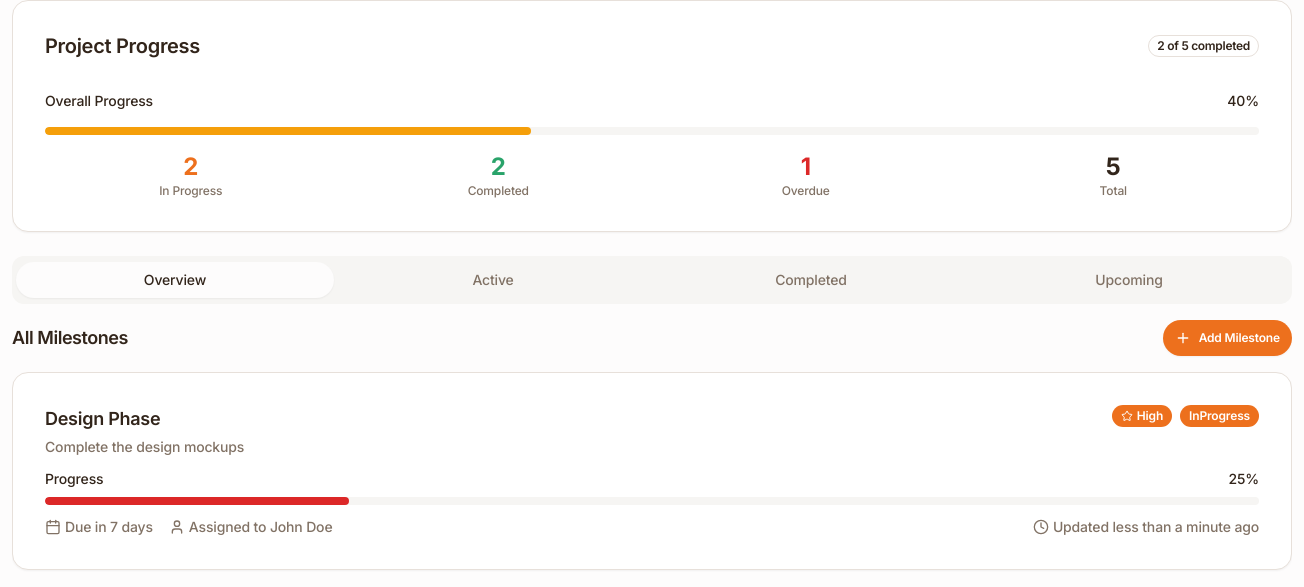
MilestoneTracker › Edge Cases › handles rapid tab switching
Check: the tab "Overview" is shown, box x1=16 y1=262 x2=334 y2=298
Rapidly switch between tabs
Click the tab "Active".
click(493, 280)  # box x1=334 y1=262 x2=652 y2=298
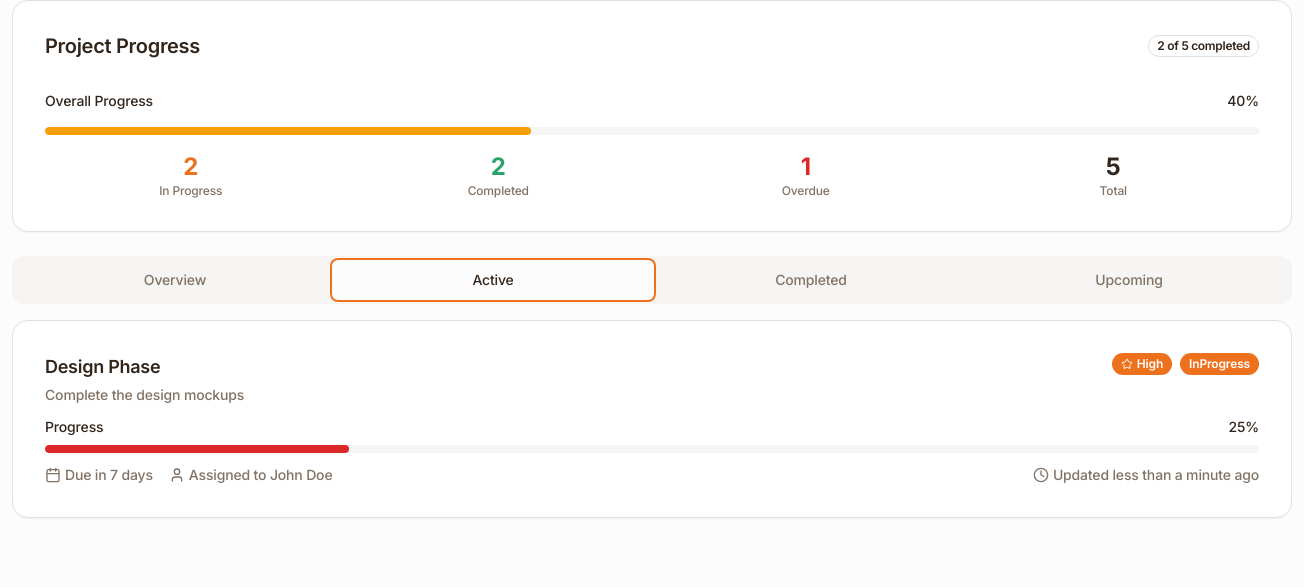
Click the tab "Completed".
click(811, 280)  # box x1=652 y1=262 x2=970 y2=298
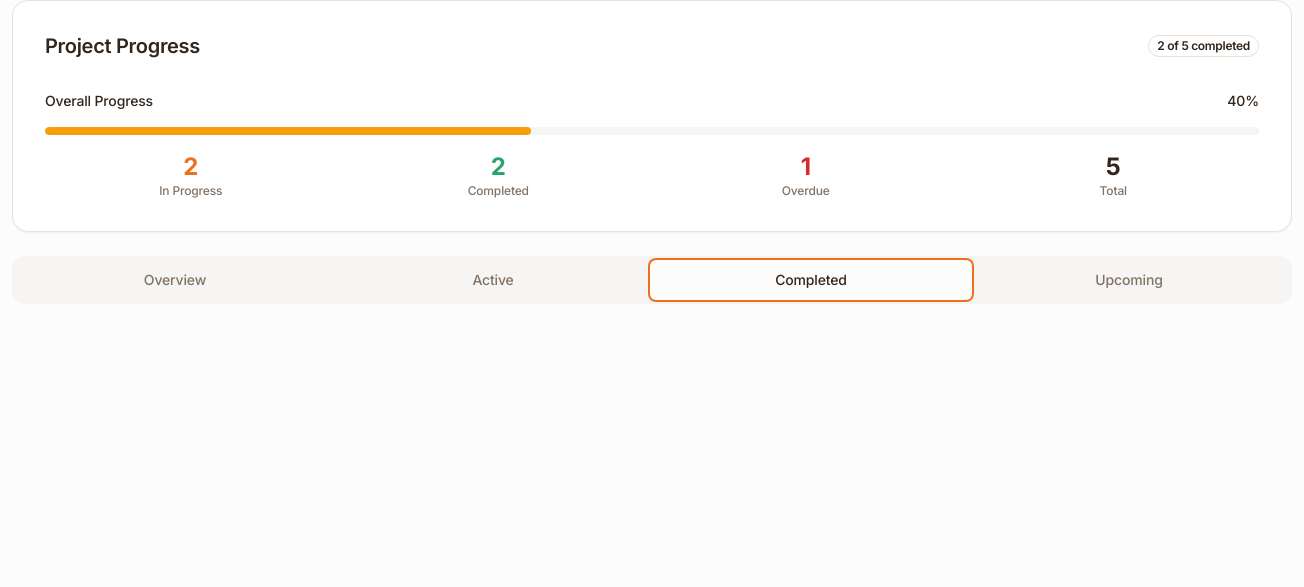
Click the tab "Upcoming".
click(1129, 280)  # box x1=970 y1=262 x2=1288 y2=298
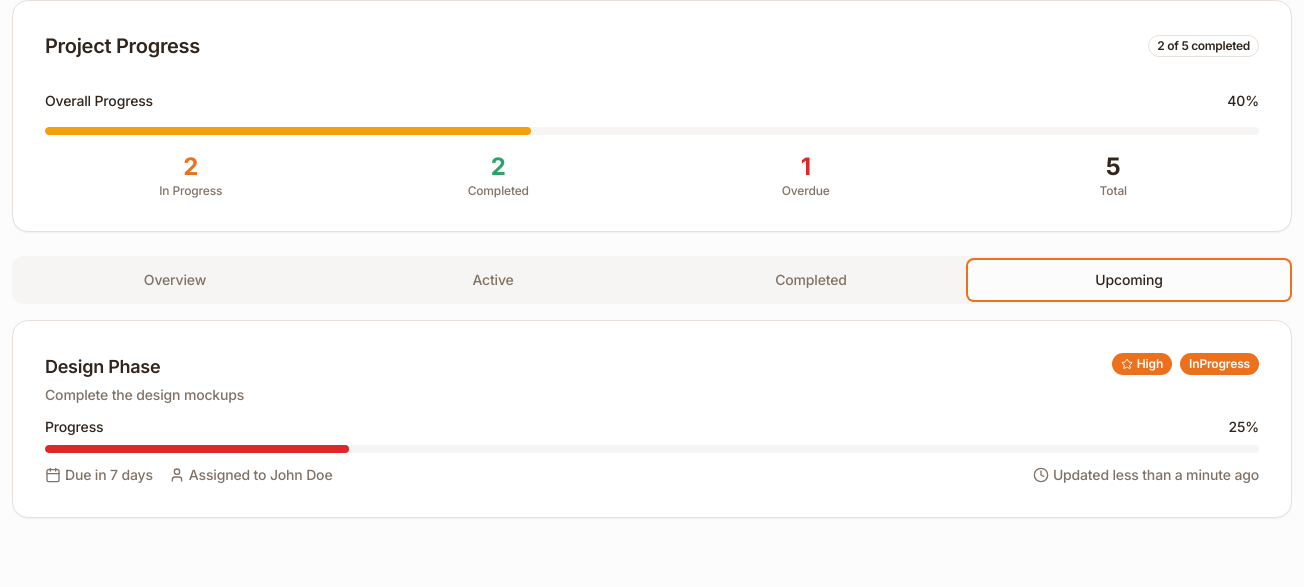
Click the tab "Overview".
click(175, 280)  # box x1=16 y1=262 x2=334 y2=298
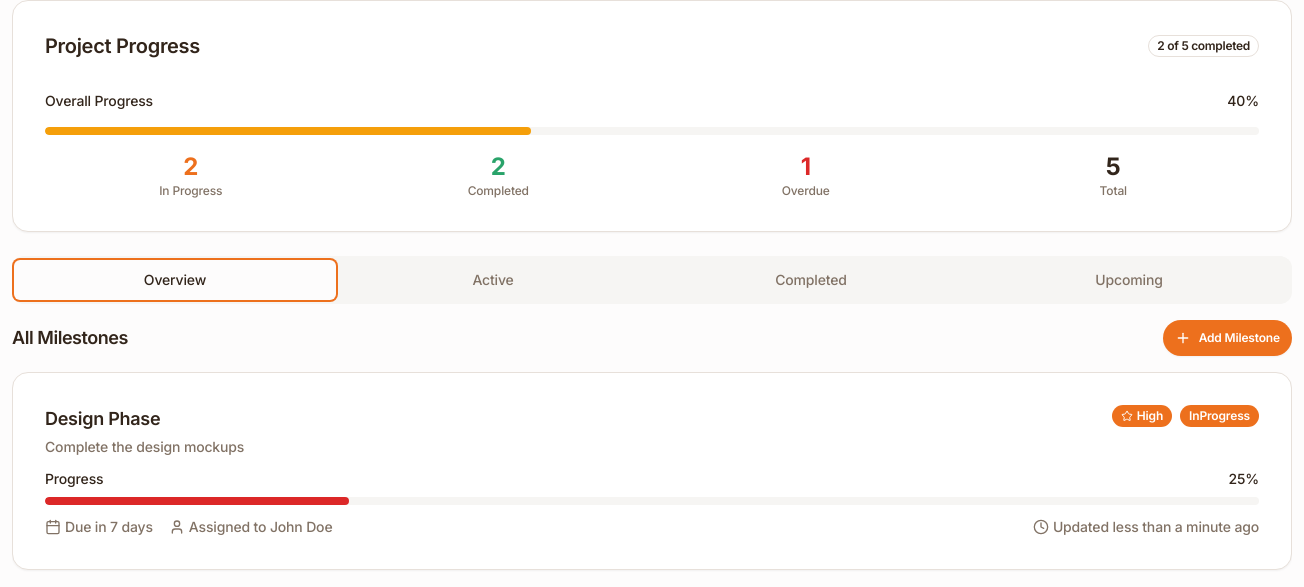
Check: the heading "All Milestones" is shown, box x1=12 y1=324 x2=128 y2=352
